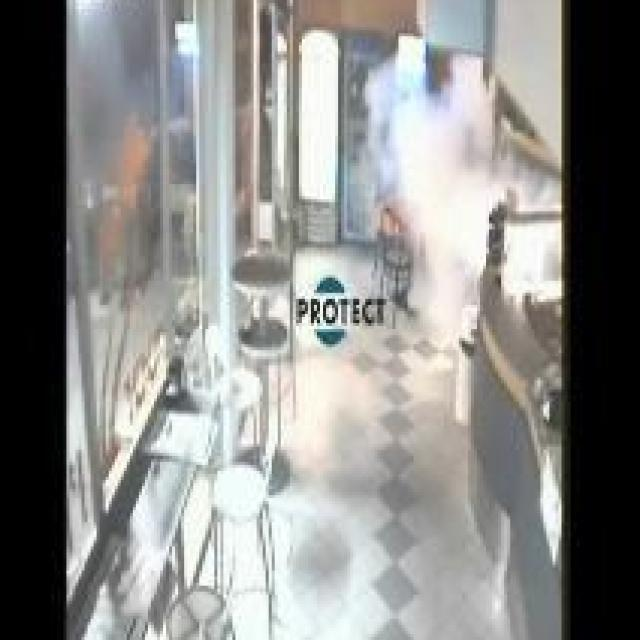fire: (363, 54, 488, 329)
